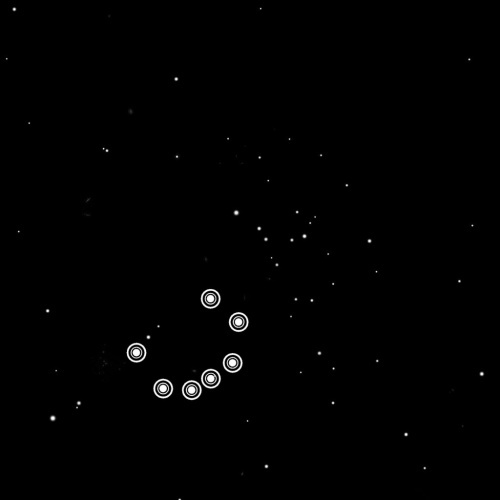corona_borealis: (122, 282, 255, 411)
